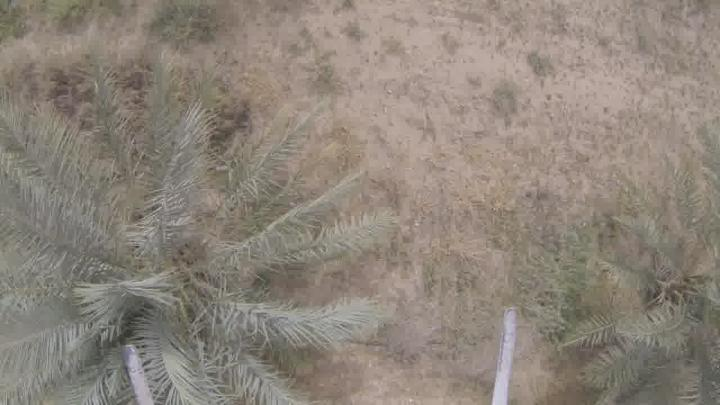Date-Palm-Crown: (14, 159, 286, 397), (628, 211, 720, 367)
